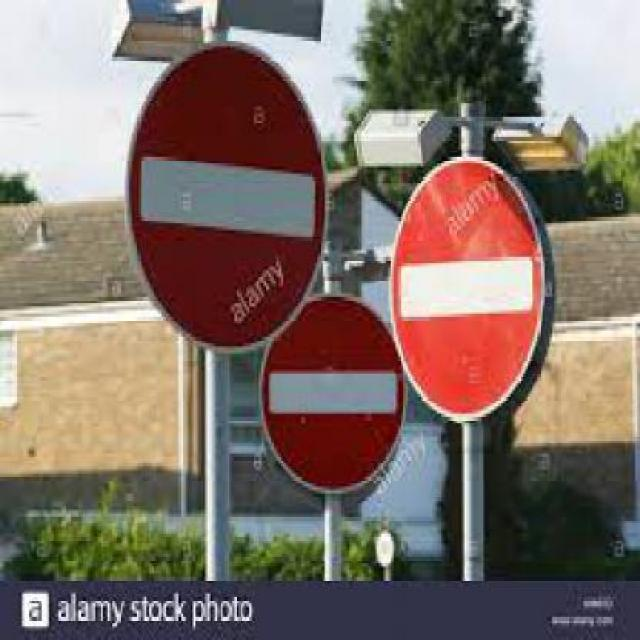Zakaz wjazdu: (264, 300, 405, 491)
